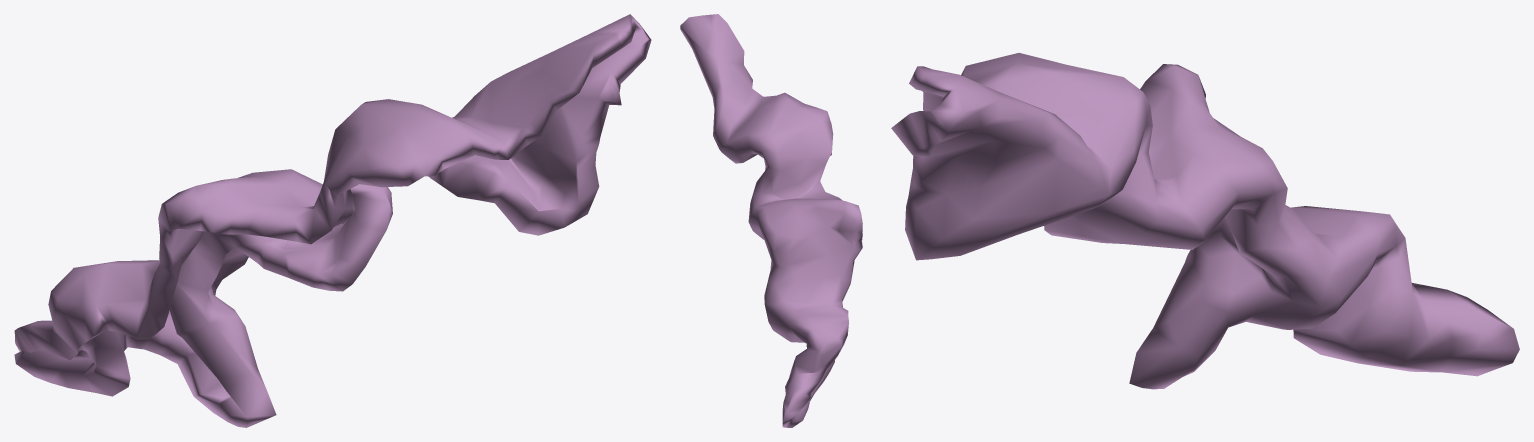
The picture shows the model from 3 angles, left to right: view 1: azimuth 30°, elevation 25°; view 2: azimuth 150°, elevation 25°; view 3: azimuth 270°, elevation 25°; orthographic projection. The views are drawn at different scales.
Visible parts, largest first — view 1: 右侧中央沟; view 2: 右侧中央沟; view 3: 右侧中央沟.
Part boxes in pixels (bbox=[...]): 右侧中央沟: bbox=[14, 14, 651, 427]; 右侧中央沟: bbox=[680, 14, 862, 427]; 右侧中央沟: bbox=[891, 53, 1519, 389].
Size of the model in its own units: 0.0756 by 0.0713 by 0.0783.
